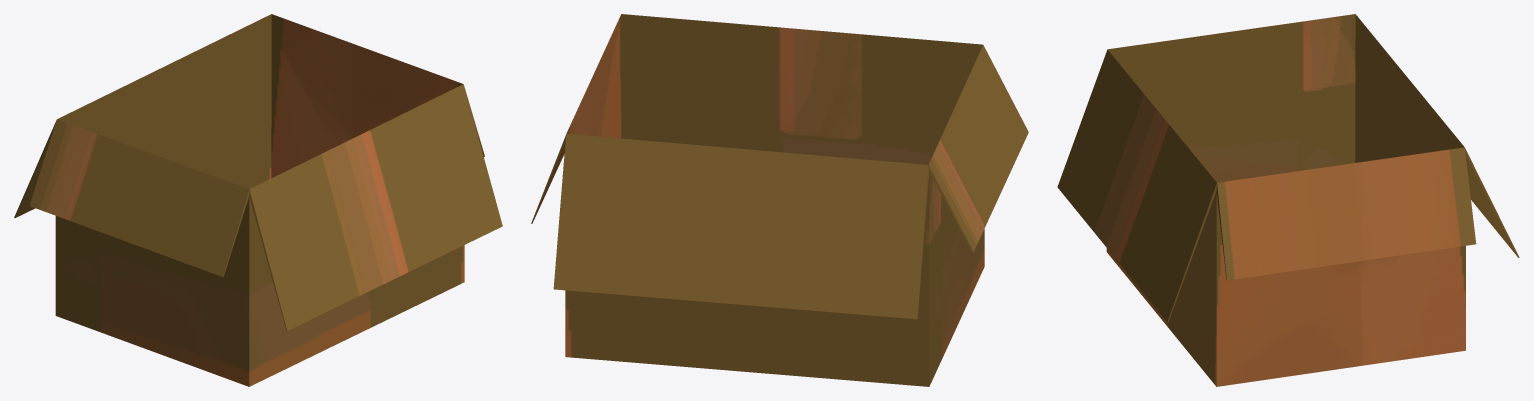
Rendered from paperbox.glb.
The picture shows the model from 3 angles, left to right: view 1: azimuth 30°, elevation 25°; view 2: azimuth 150°, elevation 25°; view 3: azimuth 270°, elevation 25°; orthographic projection. The views are drawn at different scales.
Visible parts, largest first — view 1: Cube.151; view 2: Cube.151; view 3: Cube.151.
Boxes of the visible parts, x1=… form: Cube.151: x1=14, y1=14, x2=502, y2=386; Cube.151: x1=531, y1=14, x2=1028, y2=386; Cube.151: x1=1057, y1=14, x2=1519, y2=386.
Size of the model in its own units: 0.8337 by 0.3951 by 0.8121.
Materials: 1 (1 with a texture image).
